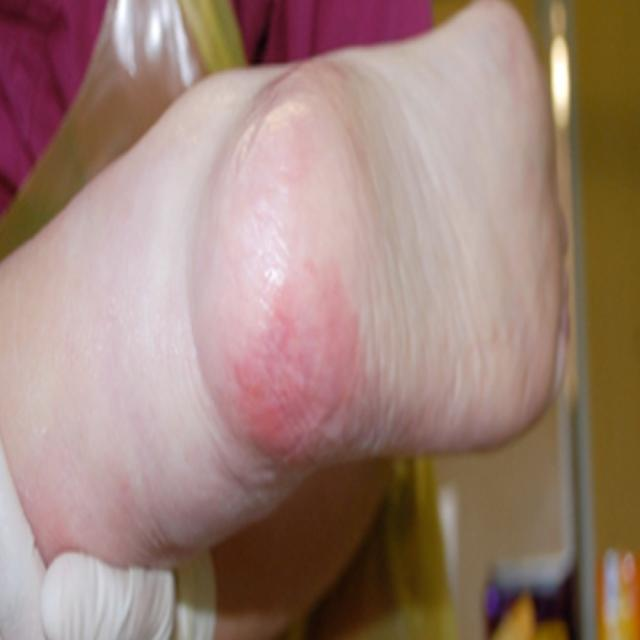stage-1: (237, 276, 367, 467)
